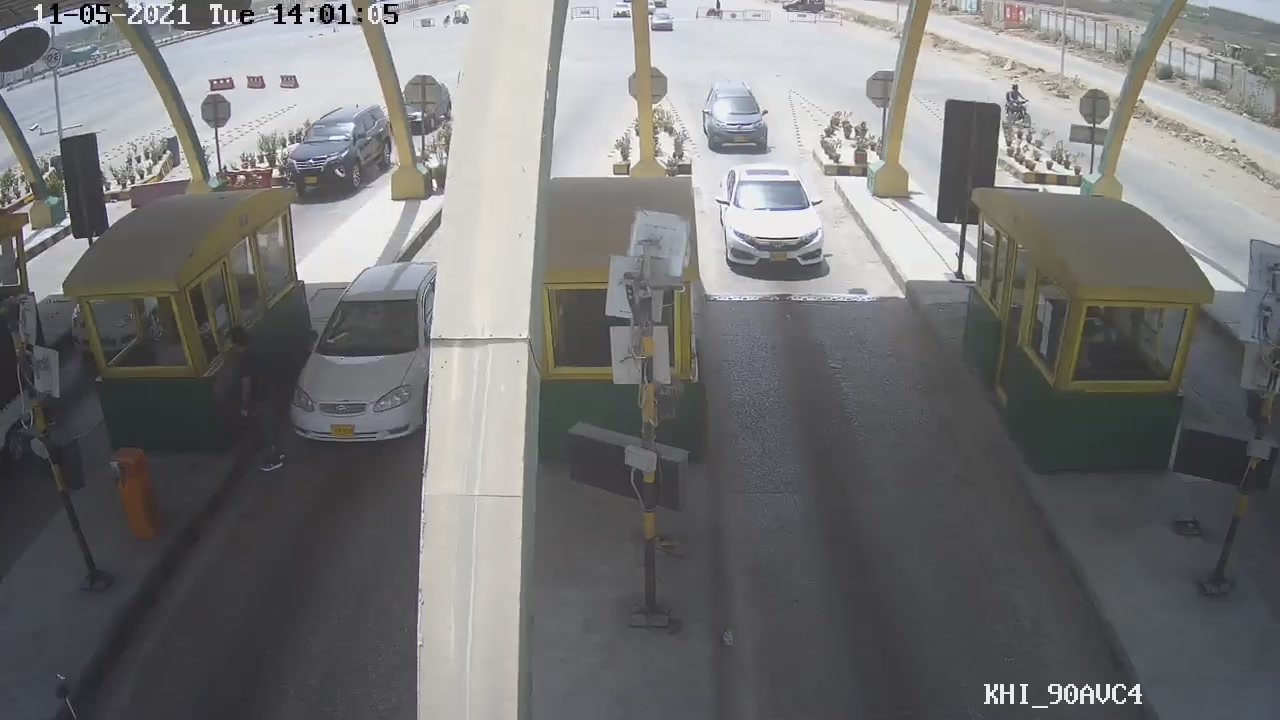F1: (707, 155, 837, 279)
